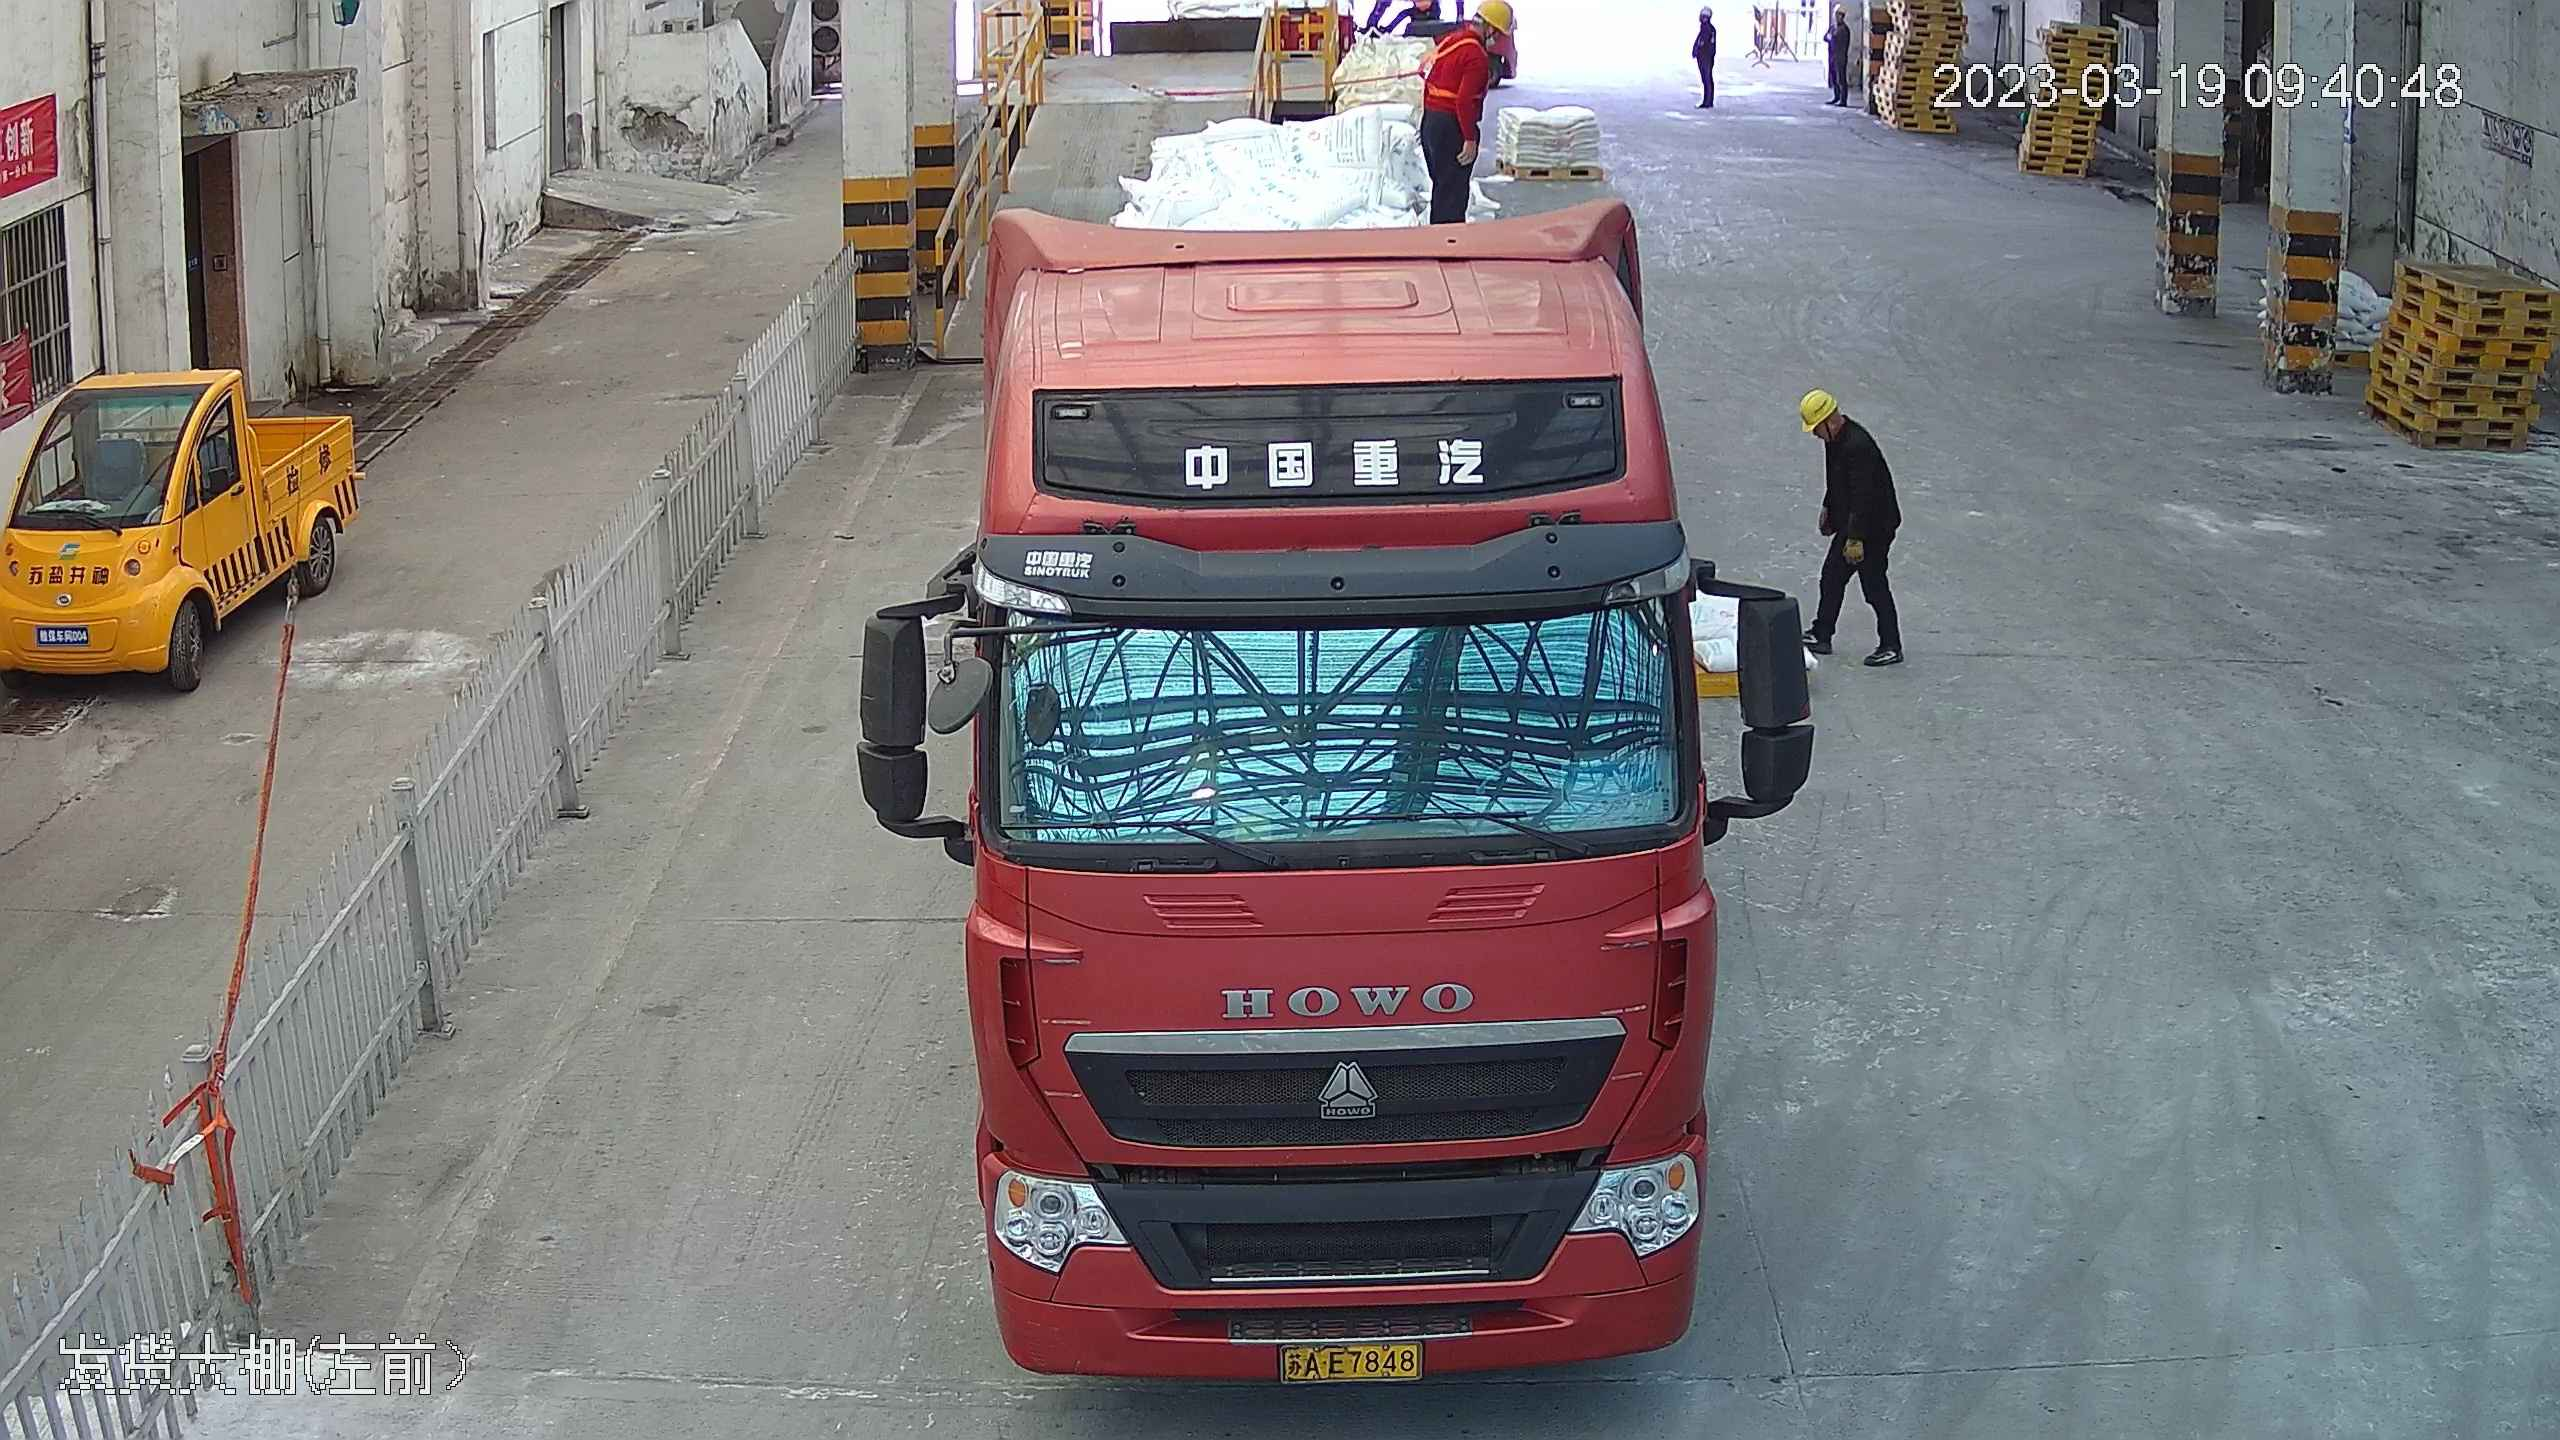belt: (1421, 36, 1484, 101)
head: (1799, 388, 1887, 483), (1432, 1, 1518, 76)
helmet: (1798, 387, 1843, 432), (1473, 1, 1517, 36), (1700, 6, 1713, 18)
people: (1801, 388, 1909, 668), (1414, 1, 1518, 226), (1687, 5, 1728, 112), (1694, 6, 1717, 42)
truck: (929, 26, 1748, 1414)
